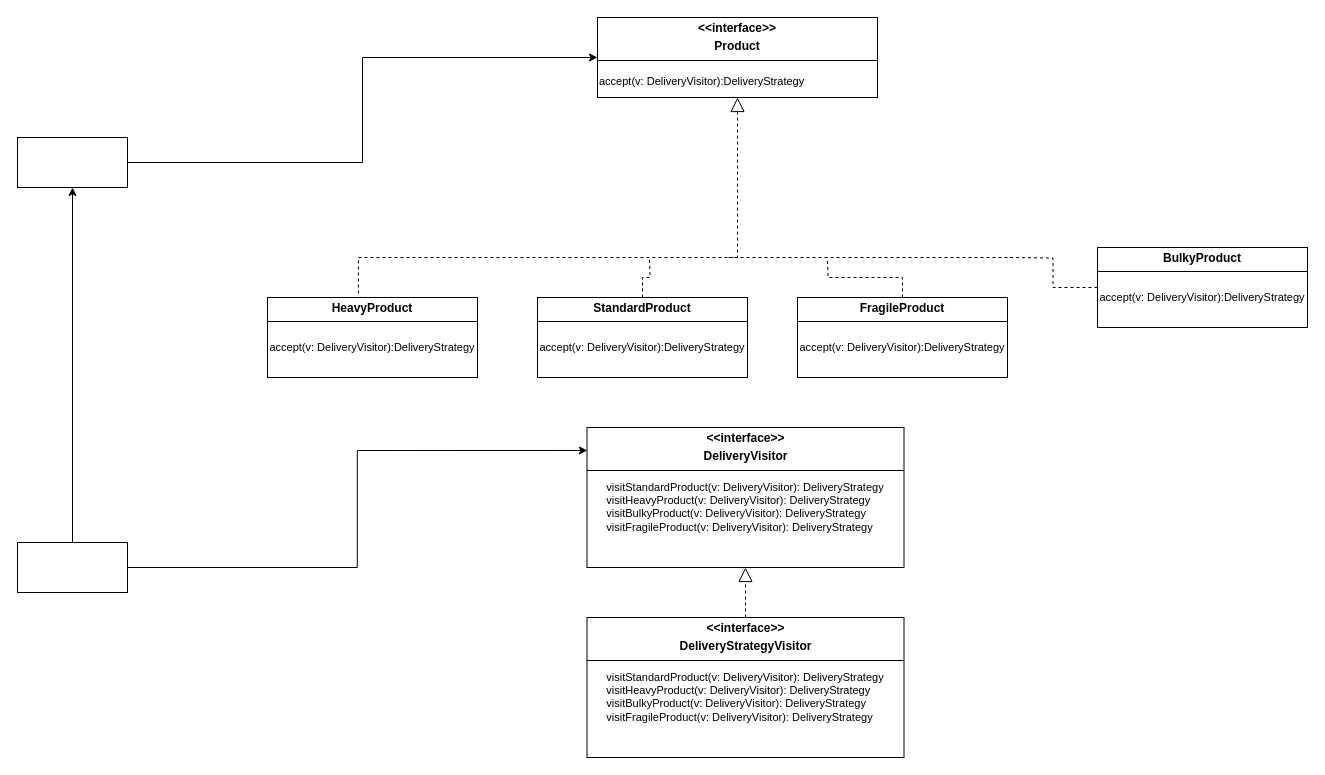
Some shapes in this 1325 by 775 pixel diagram are drawn without their labels. The centre of each missing label's shape, as x and y in pixels:
Client: [72,567]
ObjectStructure: [72,162]
